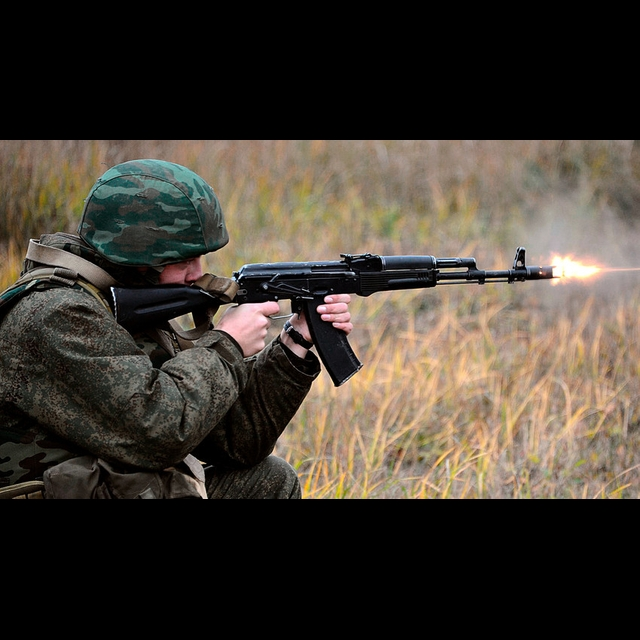AK47: (240, 243, 562, 388)
